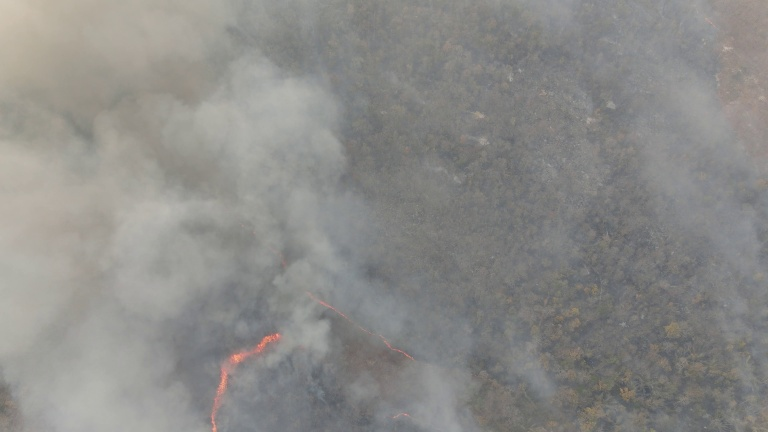fire: (208, 331, 286, 432), (298, 285, 367, 337), (370, 328, 424, 367), (379, 407, 417, 424), (273, 247, 293, 277)
smoke: (11, 29, 324, 422)
